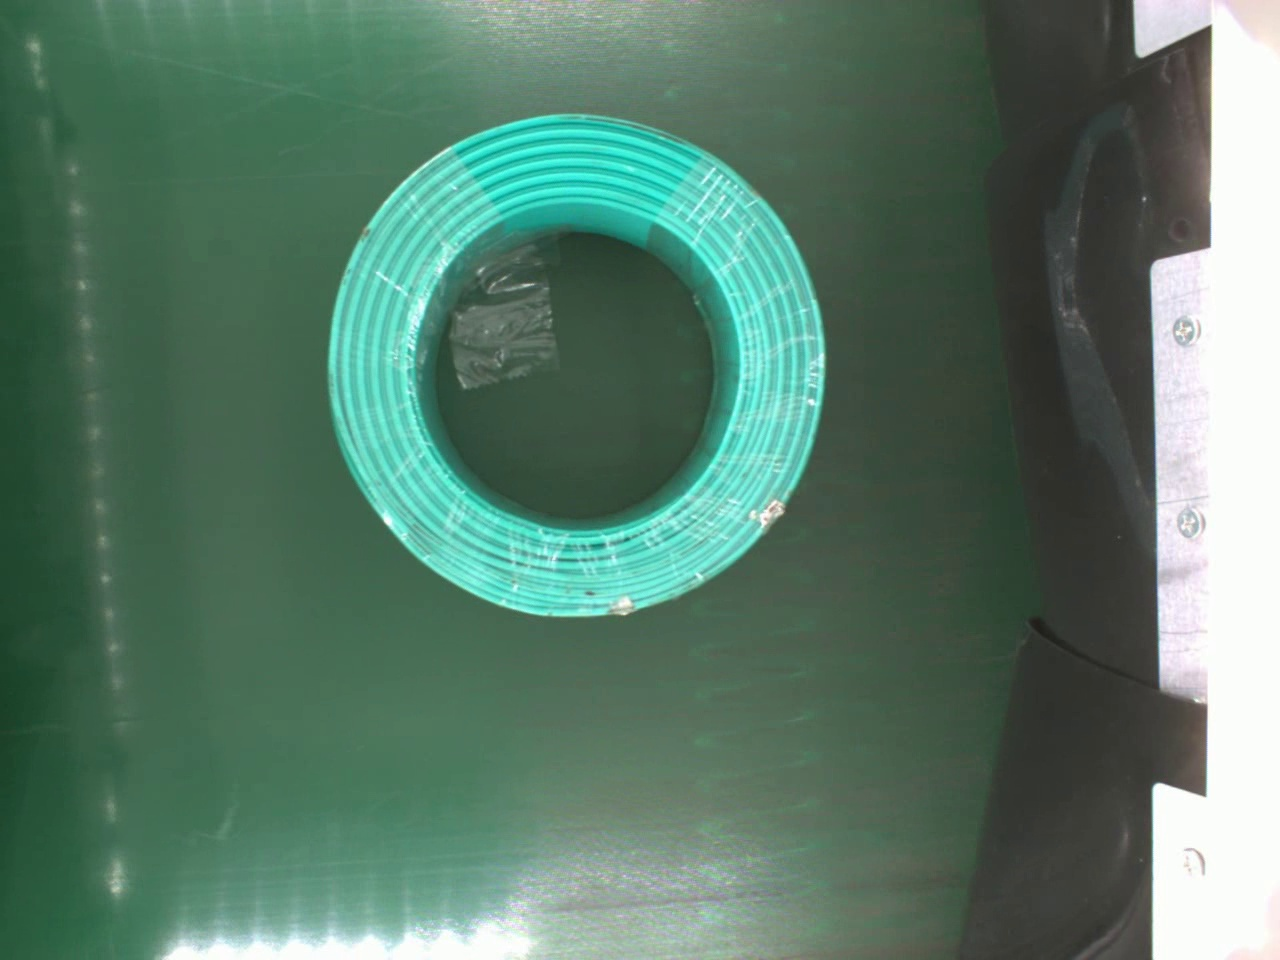green: (325, 107, 824, 623)
